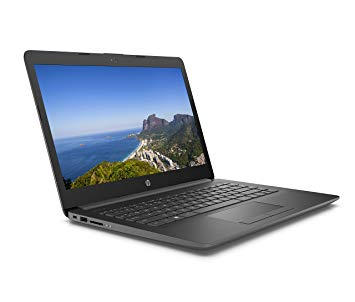Laptop: (22, 44, 342, 258)
